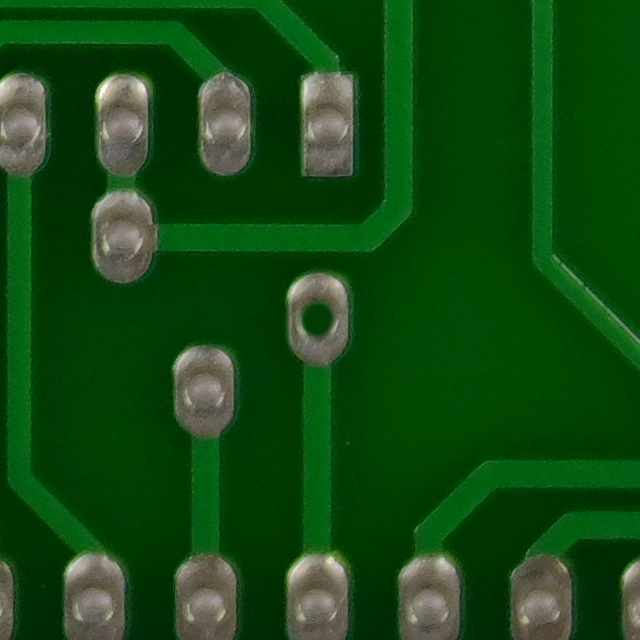missing_hole: (275, 280, 365, 361)
